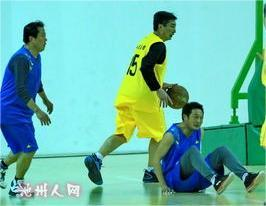bending: (153, 103, 266, 193)
up: (86, 6, 178, 190), (1, 21, 62, 201)
